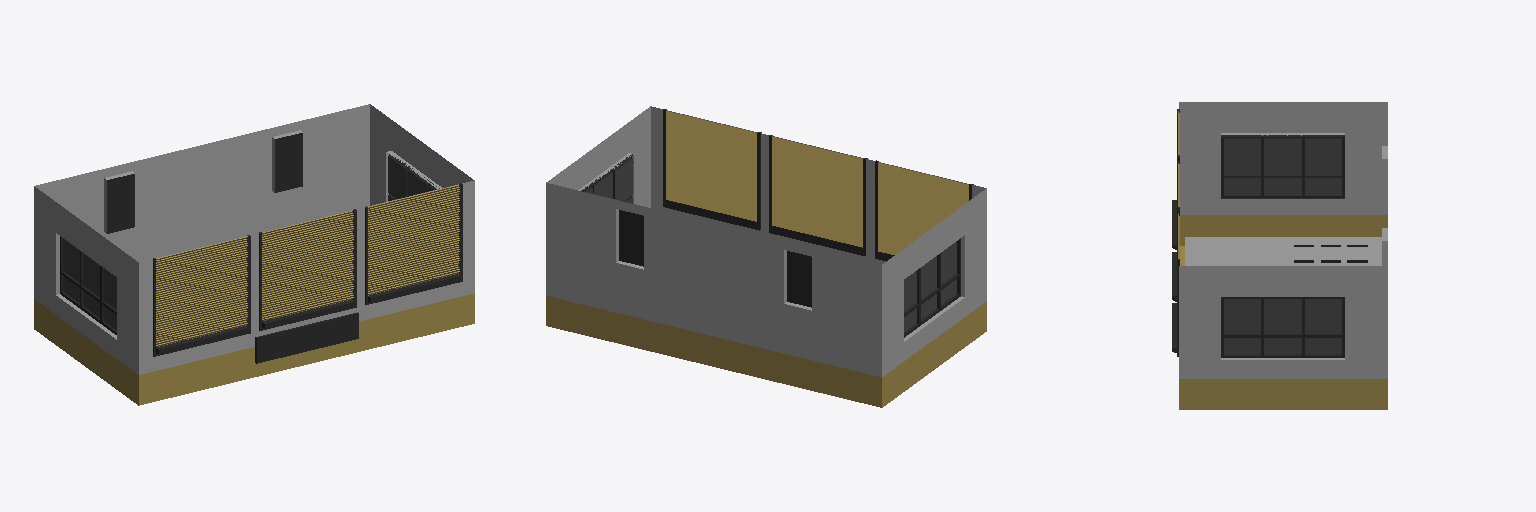
3 renders of one model, left to right at view 1: azimuth 30°, elevation 25°; view 2: azimuth 150°, elevation 25°; view 3: azimuth 270°, elevation 25°, orthographic.
Parts seen in each view (by area): view 1: Autoservice; view 2: Autoservice; view 3: Autoservice.
Boxes of the visible parts, box(x1,y1,x2,y2) form: Autoservice: box(34, 104, 474, 405); Autoservice: box(546, 106, 986, 407); Autoservice: box(1172, 102, 1387, 409).
Size of the model in its own units: 65 by 26.5 by 36.05.
1 materials, 1 textured.